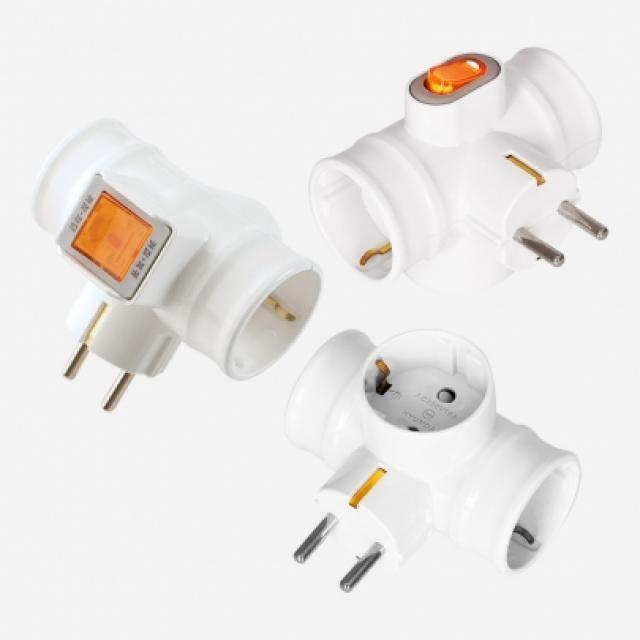typeb: (345, 296, 525, 509)
